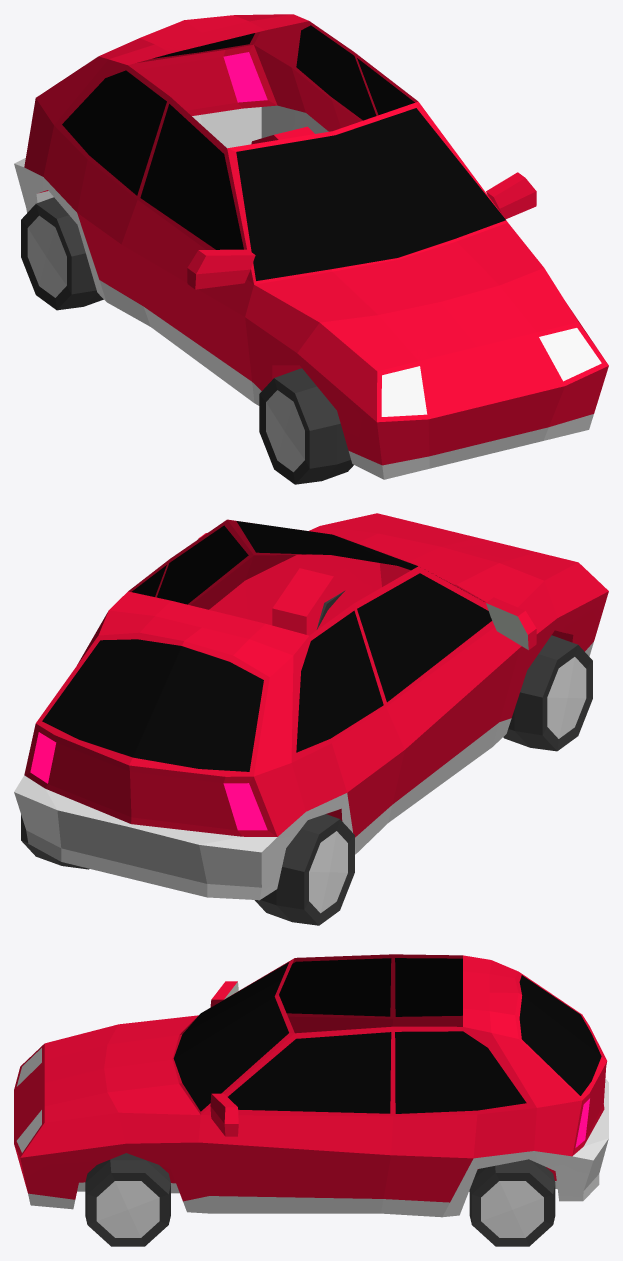
Rendered from AUTO.fbx.
3 views of the same model, one above another, from view 1: azimuth 30°, elevation 25°; view 2: azimuth 150°, elevation 25°; view 3: azimuth 270°, elevation 25° (orthographic). The views are drawn at different scales.
Visible parts, largest first — view 1: Chevy Pop, Wheel.FR, Wheel.BR; view 2: Chevy Pop, Wheel.BR, Wheel.FR; view 3: Chevy Pop, Wheel.FL, Wheel.BL.
Boxes of the visible parts, x1,y1,x2,y2 form: Chevy Pop: (14,14,608,479); Wheel.FR: (259,368,353,484); Wheel.BR: (21,197,103,310); Chevy Pop: (14,513,608,900); Wheel.BR: (254,814,354,925); Wheel.FR: (503,635,592,751); Chevy Pop: (14,954,608,1217); Wheel.FL: (85,1153,170,1246); Wheel.BL: (469,1159,555,1246).
Bounding box in the file's own units: 171 × 121 × 320.
